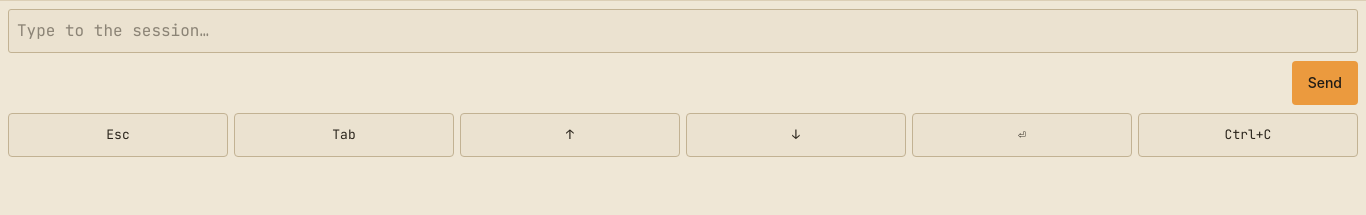
TerminalKeys — the offline queue (WP-13) › never queues a raw key: it is refused, and says so
The width and height of the screenshot is (1366, 215).
Click the button with aria-label "Escape" at x=118, y=135, box [8,113,228,157]
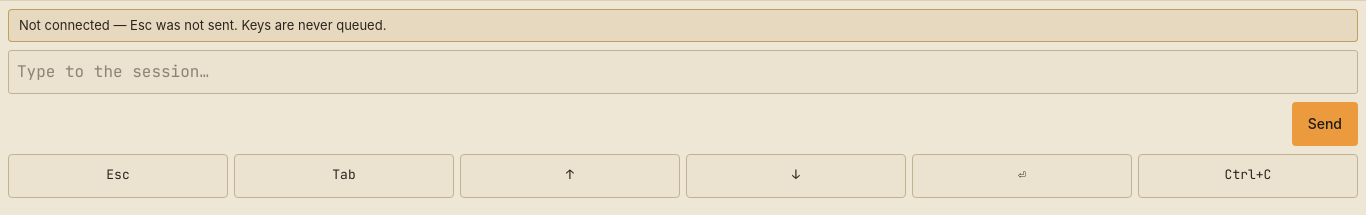
Click the button "Ctrl+C" at x=1248, y=176, box [1138,154,1358,198]
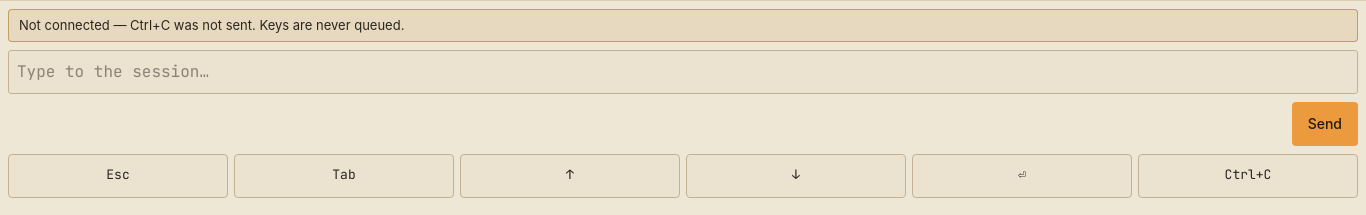
Click the button "Send" at x=1325, y=124, box [1292,102,1358,146]
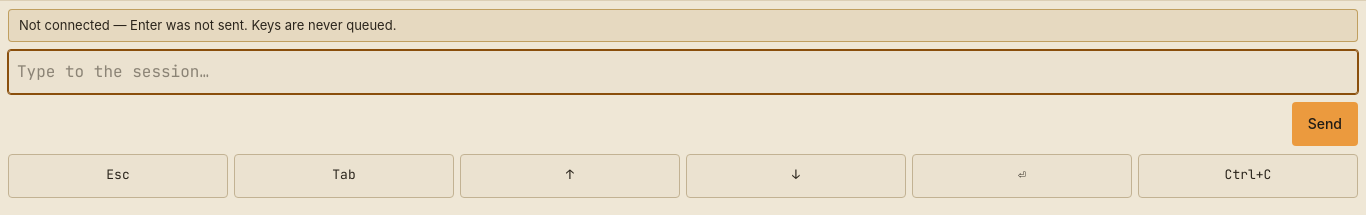
Expected: the list item "Not connected — Enter was not sent. Keys are never queued." is shown, [8,9,1358,42]
